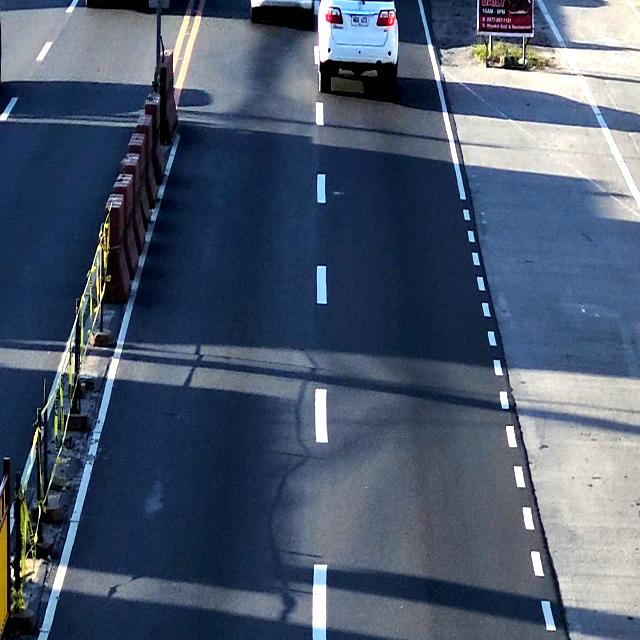Car: (314, 0, 398, 87)
License-Plate: (351, 11, 372, 30)
